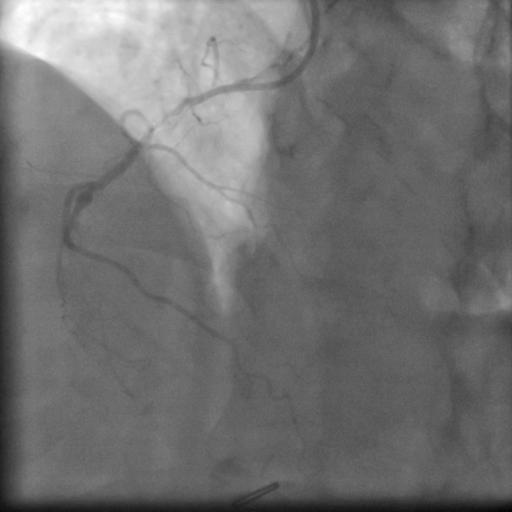Stenosis: (145, 102, 187, 132)
